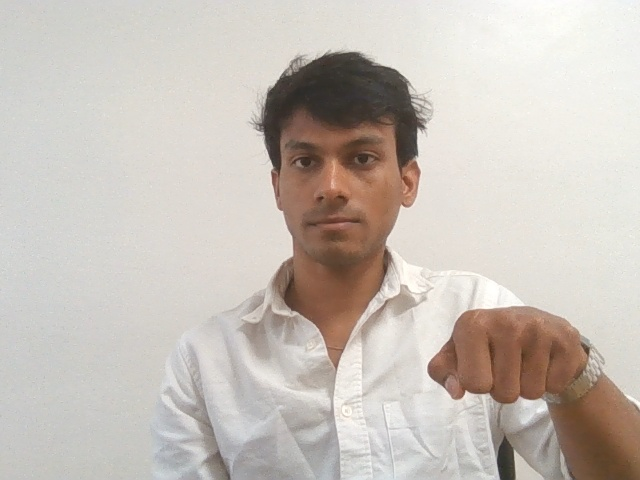Yes: (426, 298, 594, 419)
